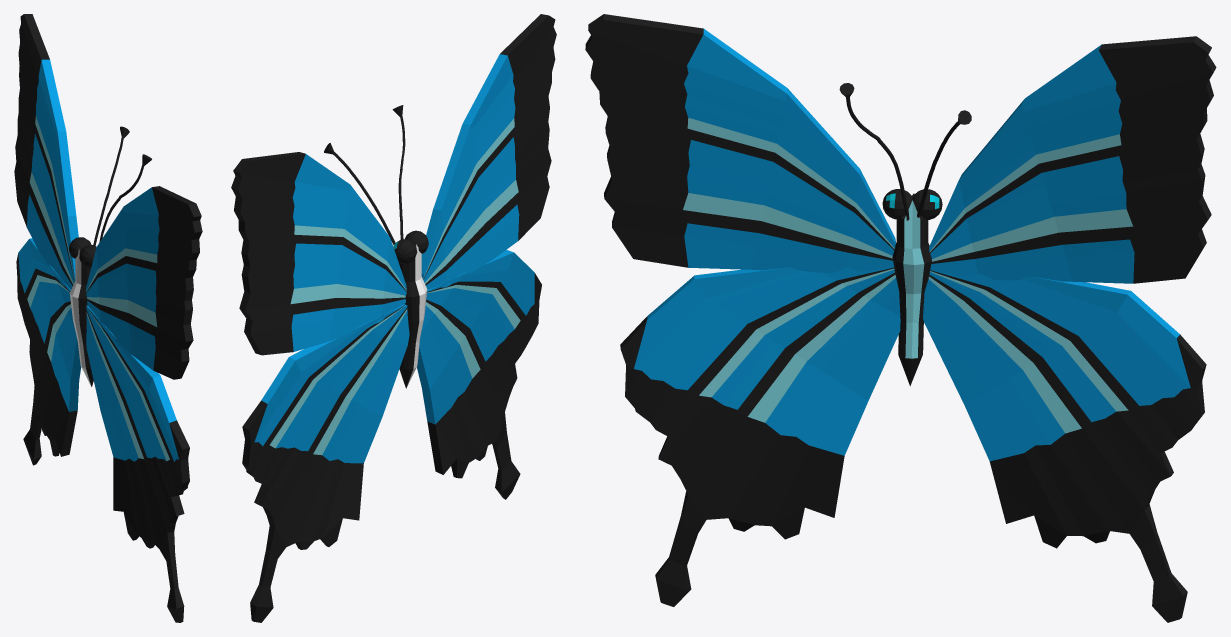
Rendered from blue-butterfly.glb.
The picture shows the model from 3 angles, left to right: view 1: azimuth 30°, elevation 25°; view 2: azimuth 150°, elevation 25°; view 3: azimuth 270°, elevation 25°; orthographic projection. The views are drawn at different scales.
Visible parts, largest first — view 1: group2020521222, group1324626464, group1272943283, group837311801, group1325150470, group1941241117, group1435486495, group1585110641, group2079905638; view 2: group1272943283, group837311801, group2020521222, group1324626464, group1325150470, group1435486495, group1941241117, group2079905638; view 3: group1324626464, group837311801, group2020521222, group1272943283, group1325150470.
Part boxes in pixels (bbox=[...]): group2020521222: bbox=[86, 186, 202, 379]; group1324626464: bbox=[86, 305, 189, 622]; group1272943283: bbox=[14, 14, 78, 289]; group837311801: bbox=[16, 238, 81, 465]; group1325150470: bbox=[69, 248, 93, 386]; group1941241117: bbox=[93, 126, 129, 245]; group1435486495: bbox=[99, 154, 151, 242]; group1585110641: bbox=[79, 245, 96, 268]; group2079905638: bbox=[69, 237, 91, 258]; group1272943283: bbox=[231, 152, 406, 355]; group837311801: bbox=[242, 304, 409, 622]; group2020521222: bbox=[421, 14, 556, 290]; group1324626464: bbox=[417, 249, 541, 499]; group1325150470: bbox=[399, 244, 427, 388]; group1435486495: bbox=[392, 105, 405, 239]; group1941241117: bbox=[324, 143, 395, 245]; group2079905638: bbox=[393, 239, 417, 263]; group1324626464: bbox=[620, 267, 900, 606]; group837311801: bbox=[923, 270, 1206, 622]; group2020521222: bbox=[585, 14, 895, 272]; group1272943283: bbox=[929, 36, 1216, 283]; group1325150470: bbox=[892, 193, 931, 386].
Size of the model in its own units: 0.3074 by 1.67 by 1.59.
